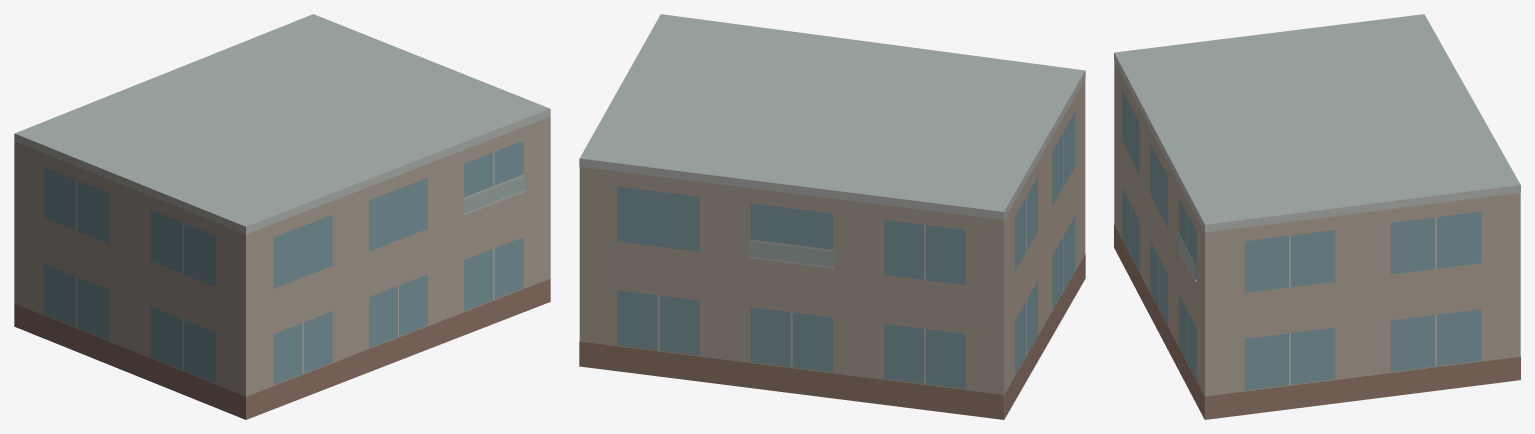
The model's file is survey-upis-32889424.glb.
3 renders of one model, left to right at view 1: azimuth 30°, elevation 25°; view 2: azimuth 150°, elevation 25°; view 3: azimuth 270°, elevation 25°, orthographic. The views are drawn at different scales.
Visible parts, largest first — view 1: survey-upis-32889424.tmp; view 2: survey-upis-32889424.tmp; view 3: survey-upis-32889424.tmp.
Boxes of the visible parts, left/top/right/bottom form: survey-upis-32889424.tmp: left=14, top=14, right=550, bottom=419; survey-upis-32889424.tmp: left=579, top=14, right=1085, bottom=419; survey-upis-32889424.tmp: left=1114, top=14, right=1520, bottom=419.
Size of the model in its own units: 14.14 by 6.1 by 11.53.
